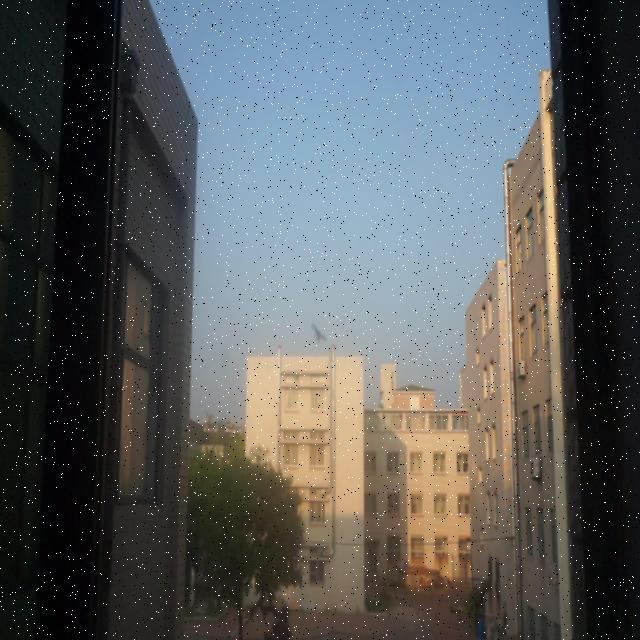UAV: (311, 323, 327, 344)
